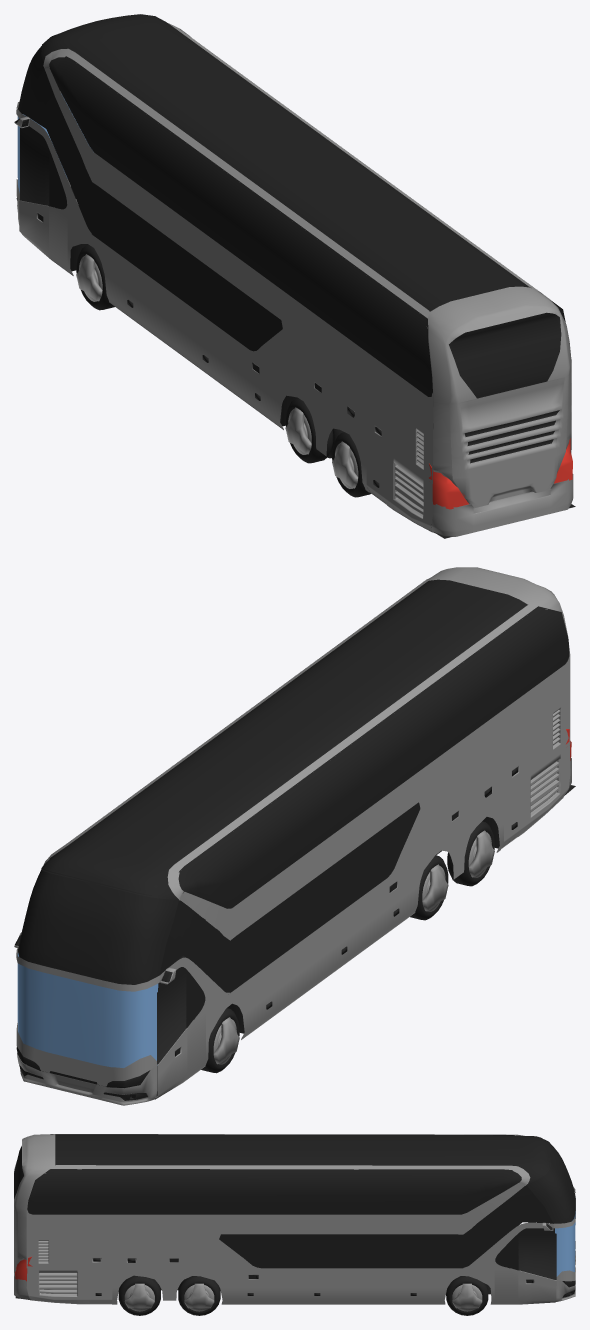
The model's file is Bus.fbx.
3 renders of one model, top to bottom at view 1: azimuth 30°, elevation 25°; view 2: azimuth 150°, elevation 25°; view 3: azimuth 270°, elevation 25°, orthographic. The views are drawn at different scales.
Parts seen in each view (by area): view 1: Bus; view 2: Bus; view 3: Bus.
Boxes of the visible parts, left/top/right/bottom form: Bus: left=14, top=14, right=575, bottom=538; Bus: left=14, top=567, right=575, bottom=1105; Bus: left=14, top=1134, right=575, bottom=1315.
Bounding box in the file's own units: 1398 × 411 × 284.
